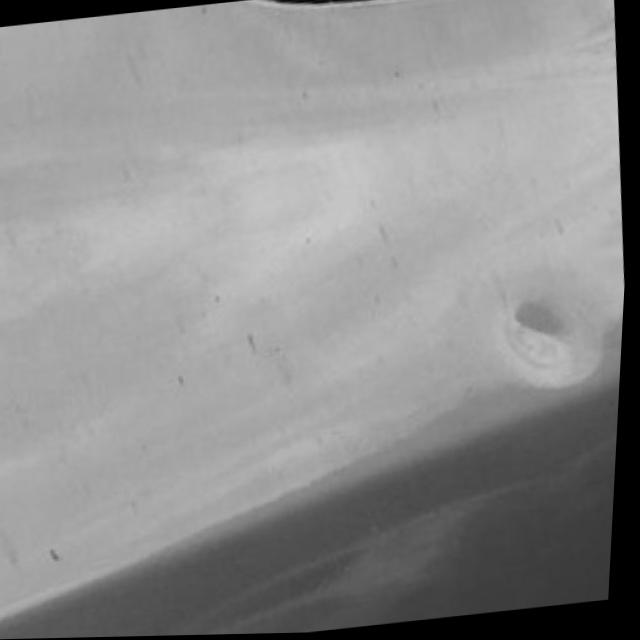Dent: (502, 283, 600, 384)
